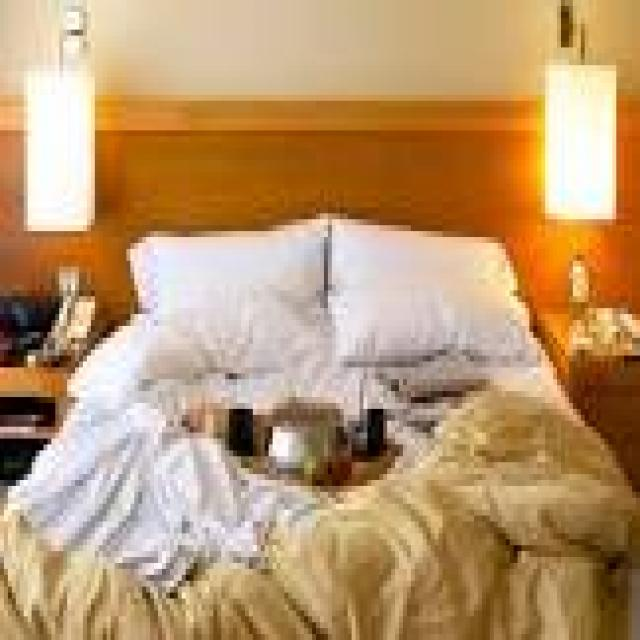mess: (123, 243, 542, 640), (0, 281, 88, 393), (554, 305, 640, 349)
